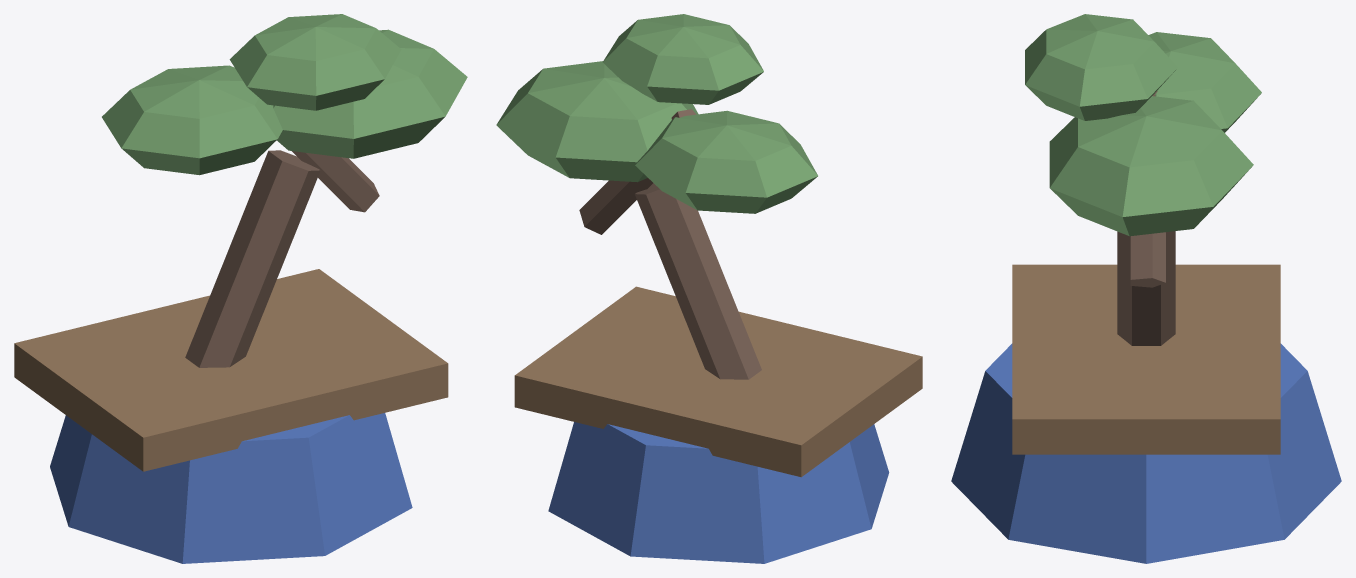
The model's file is cn_bonsai.glb.
3 renders of one model, left to right at view 1: azimuth 30°, elevation 25°; view 2: azimuth 150°, elevation 25°; view 3: azimuth 270°, elevation 25°, orthographic. The views are drawn at different scales.
Parts seen in each view (by area): view 1: cn_bonsai; view 2: cn_bonsai; view 3: cn_bonsai.
Part boxes in pixels (box(x1,y1,x2,y2)): cn_bonsai: box(14, 14, 467, 563); cn_bonsai: box(496, 14, 922, 563); cn_bonsai: box(951, 14, 1341, 563).
Size of the model in its own units: 0.9535 by 1.09 by 0.8001.
